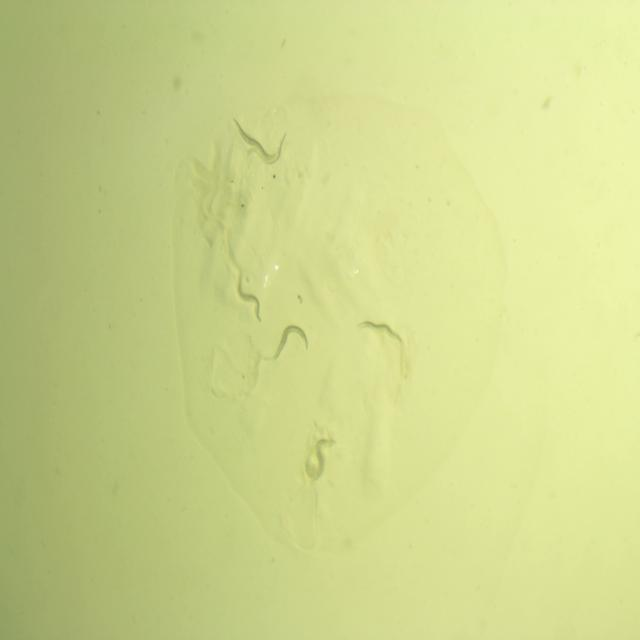worm: (354, 300, 406, 359), (227, 111, 282, 162), (267, 320, 324, 368), (244, 128, 289, 169), (233, 267, 266, 322), (302, 426, 331, 485)
